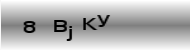8: (21, 20, 37, 34)
B: (52, 19, 67, 33)
K: (82, 17, 97, 31)
j: (66, 25, 73, 42)
y: (96, 13, 110, 27)
